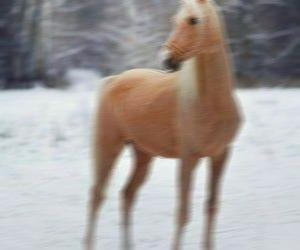horse: (81, 0, 244, 249)
